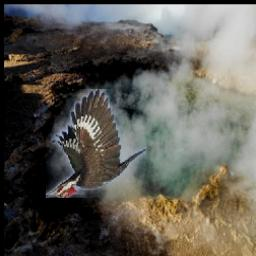Woodpecker: (47, 90, 147, 199)
